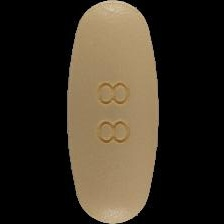31722-537: (0, 0, 224, 224)
